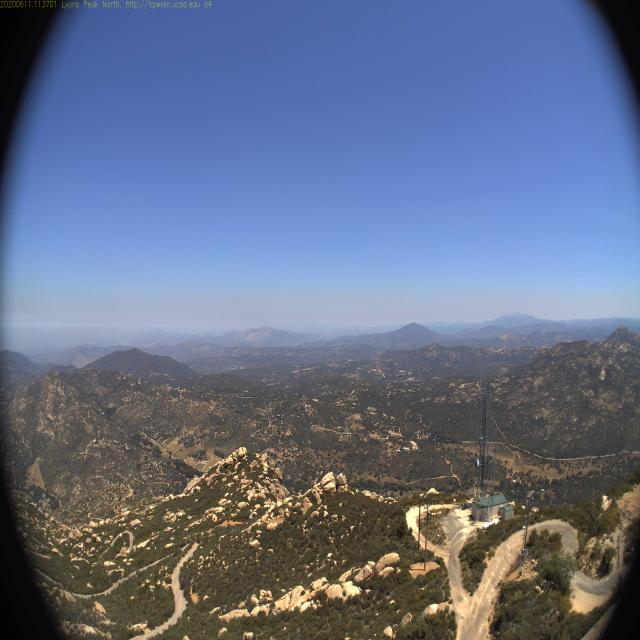smoke: (85, 376, 96, 398)
